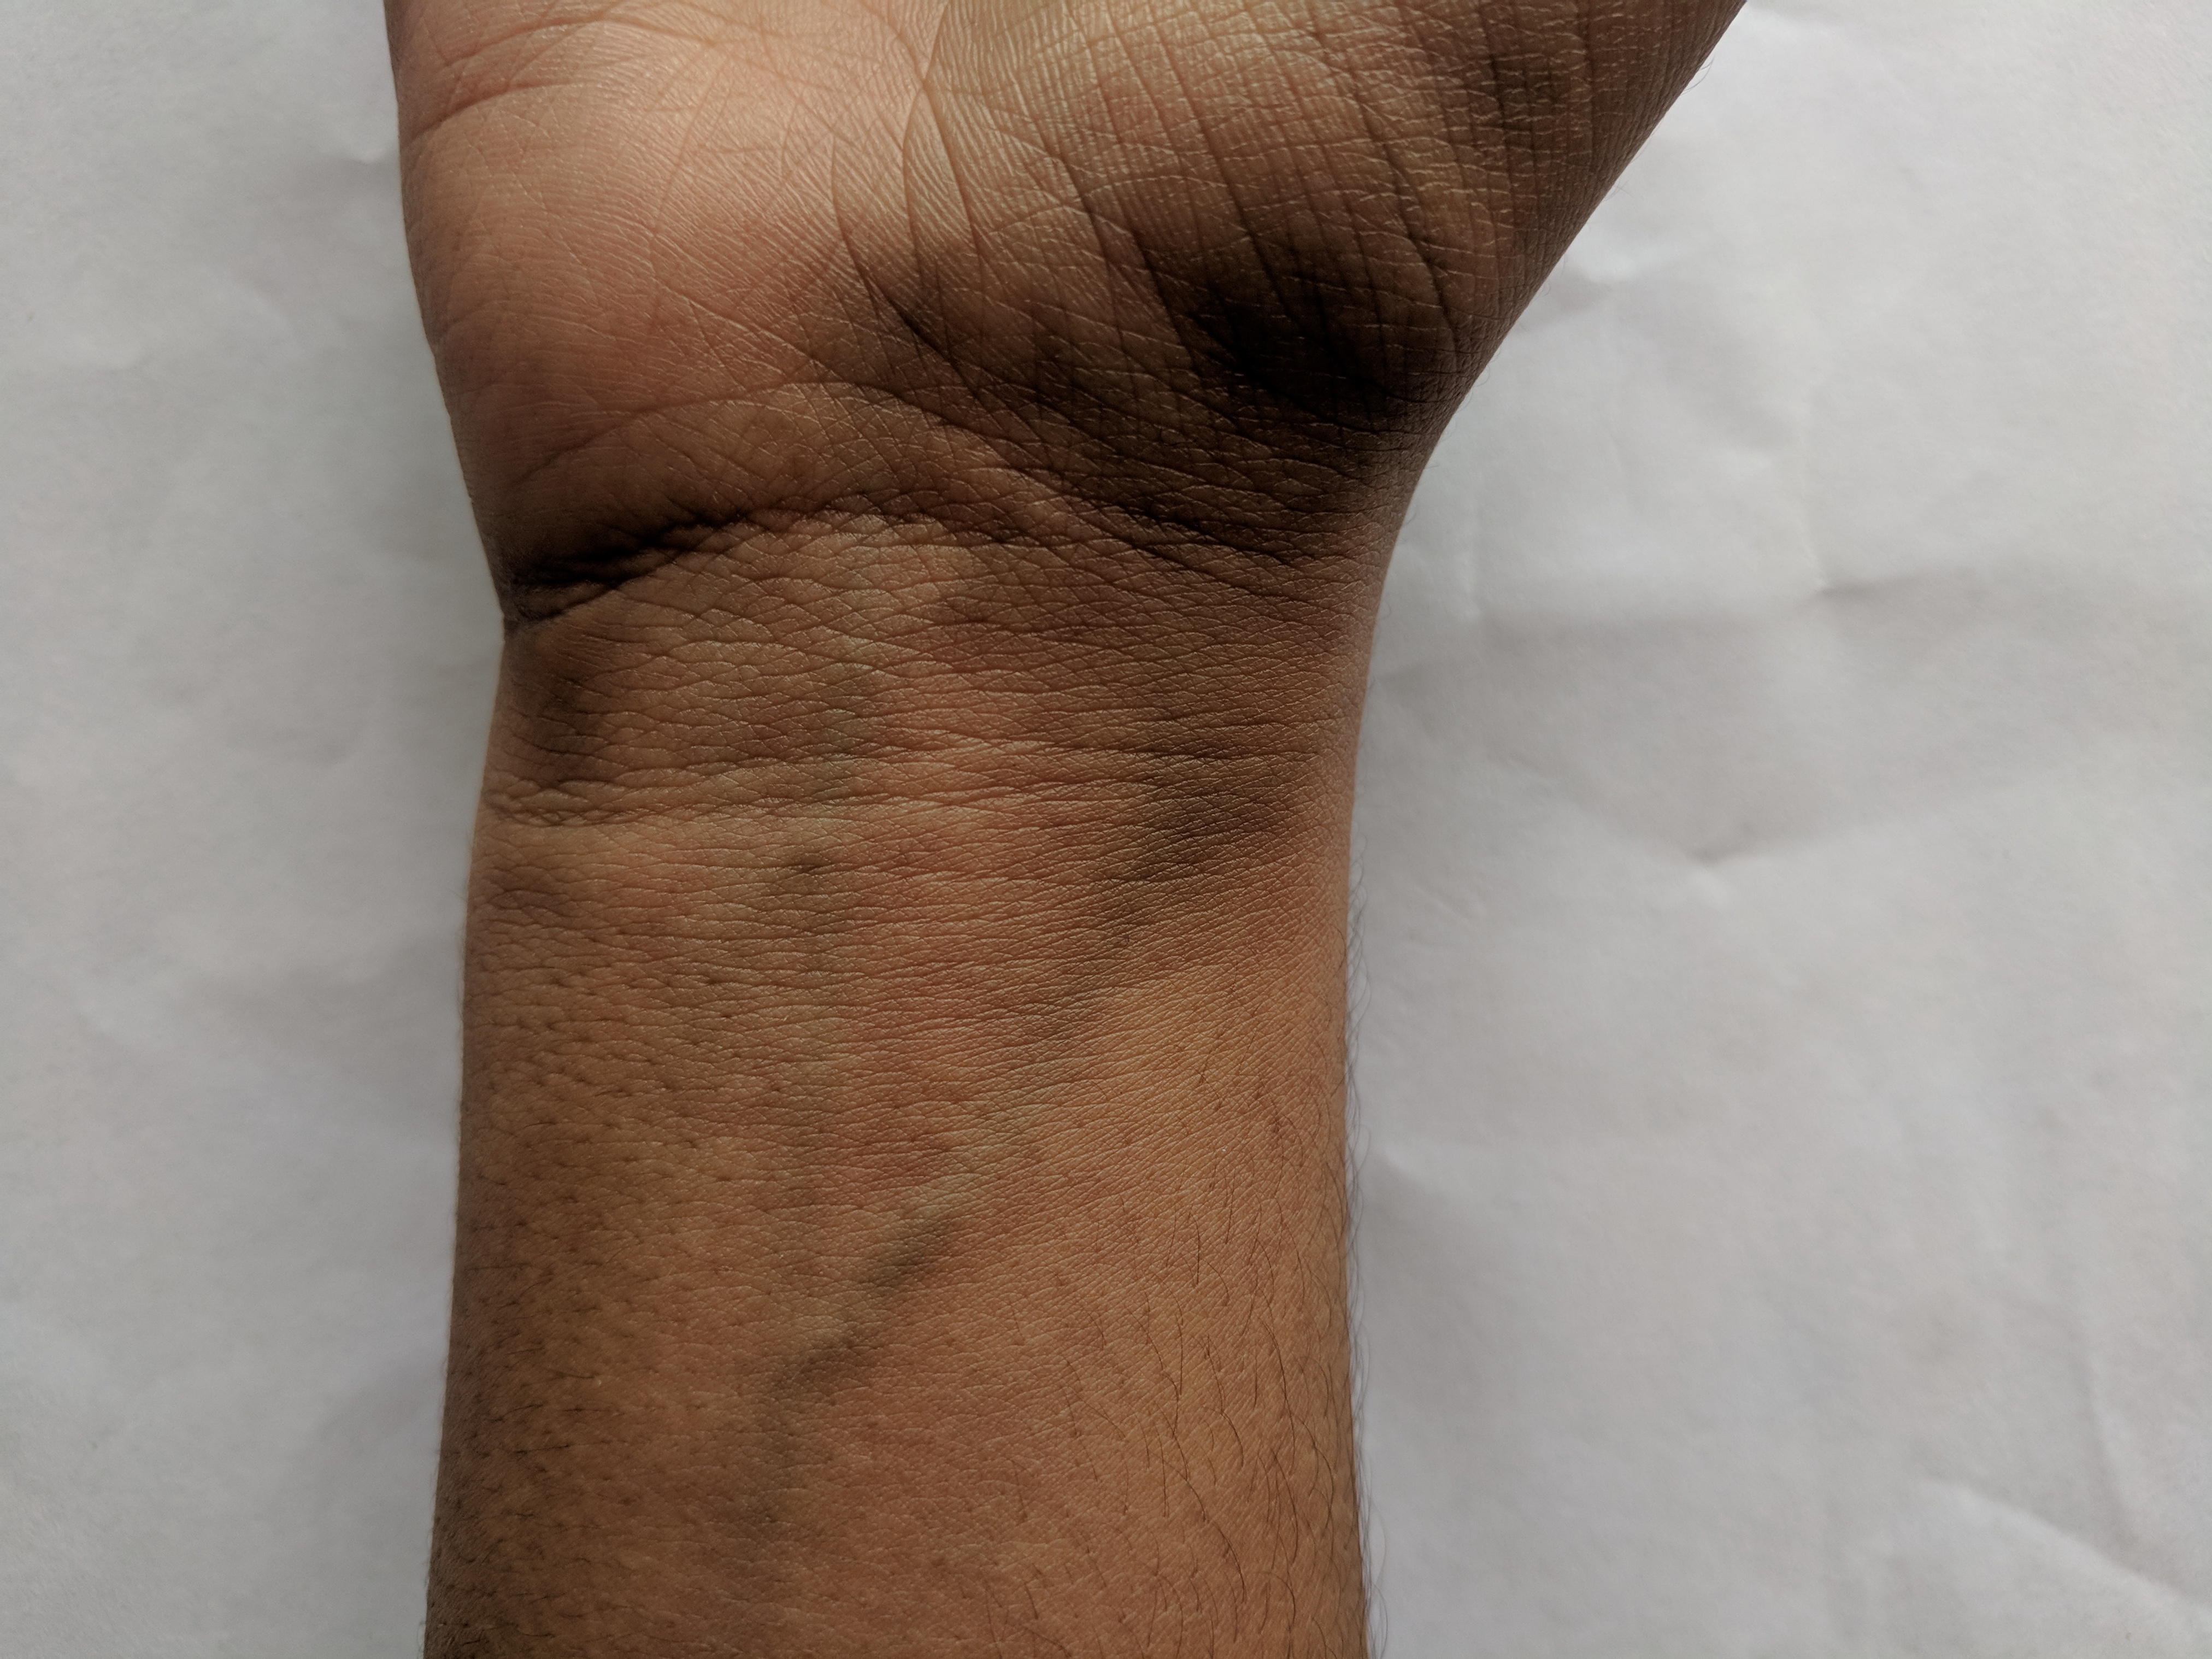righthandwrist: (449, 390, 1479, 863)
